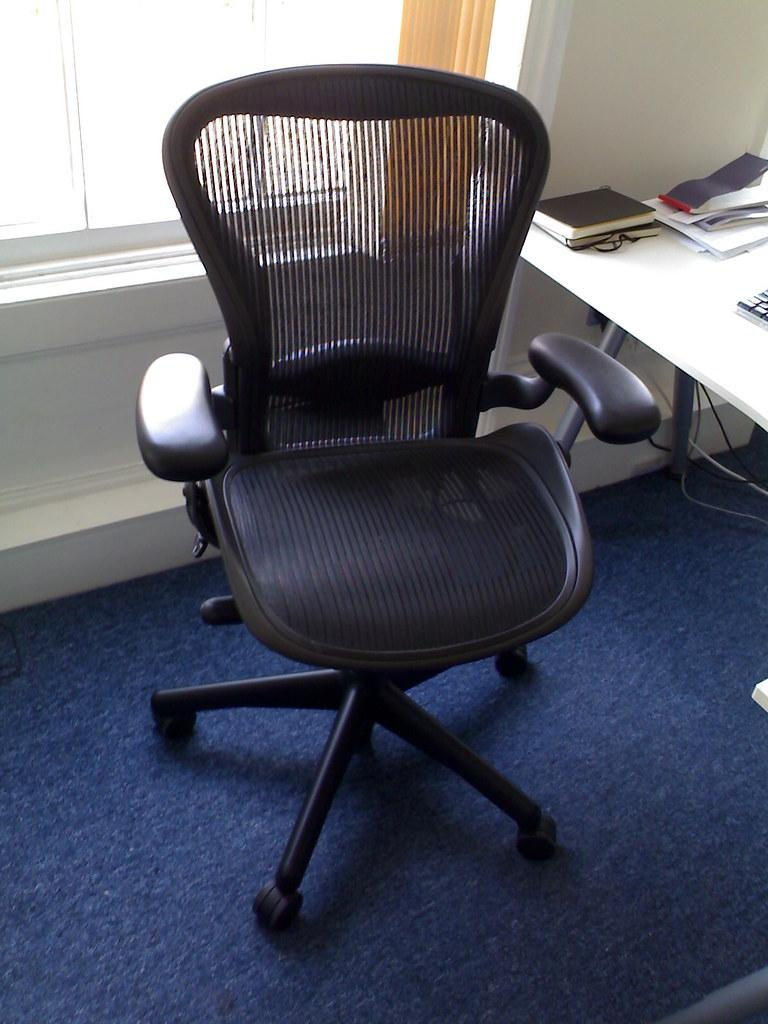chair: (136, 62, 662, 932)
